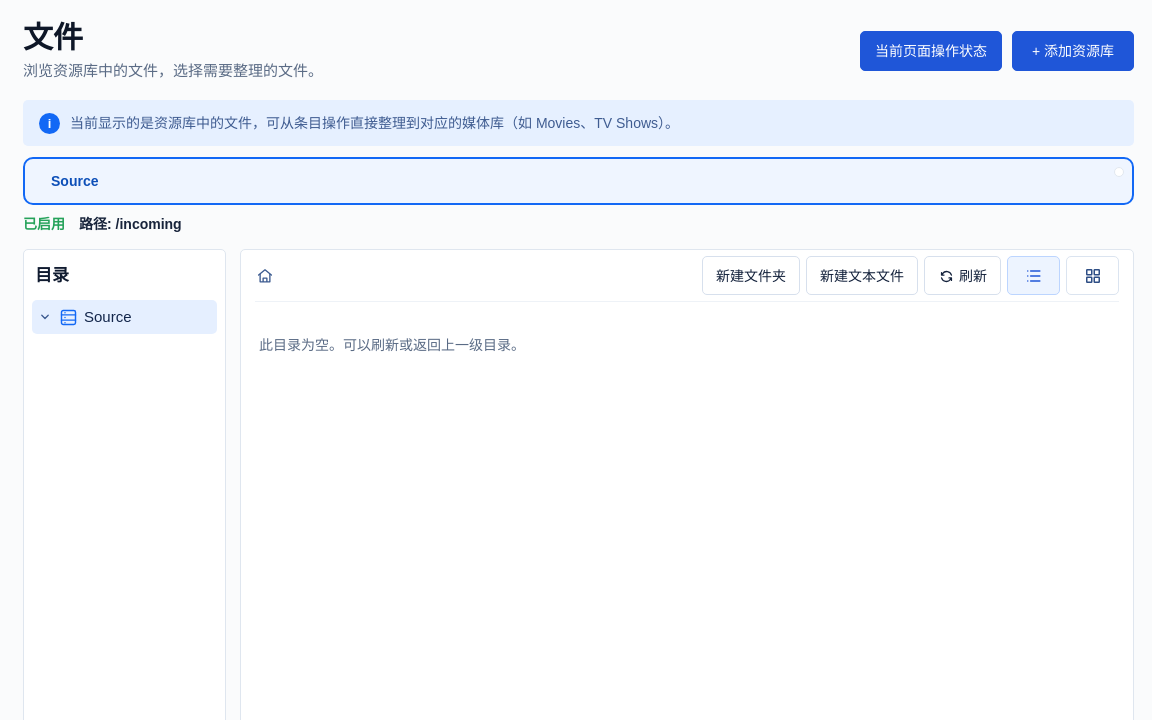
Test case: current page operation status › shows the independent per-item evidence of a mixed batch
The image size is (1152, 720).
Click the button "当前页面操作状态". click: {"x": 931, "y": 51}
box: [860,31,1002,71]
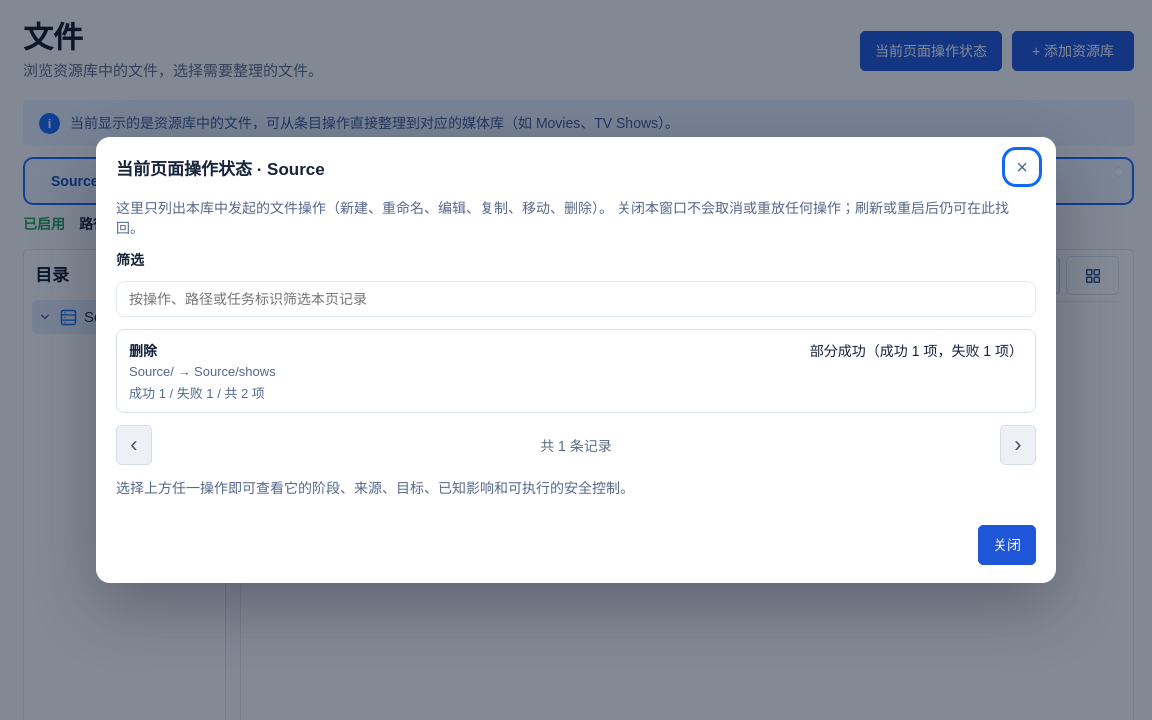
Click the button with aria-label "操作 删除 task-1". click: {"x": 916, "y": 351}
box: [116,329,1036,413]
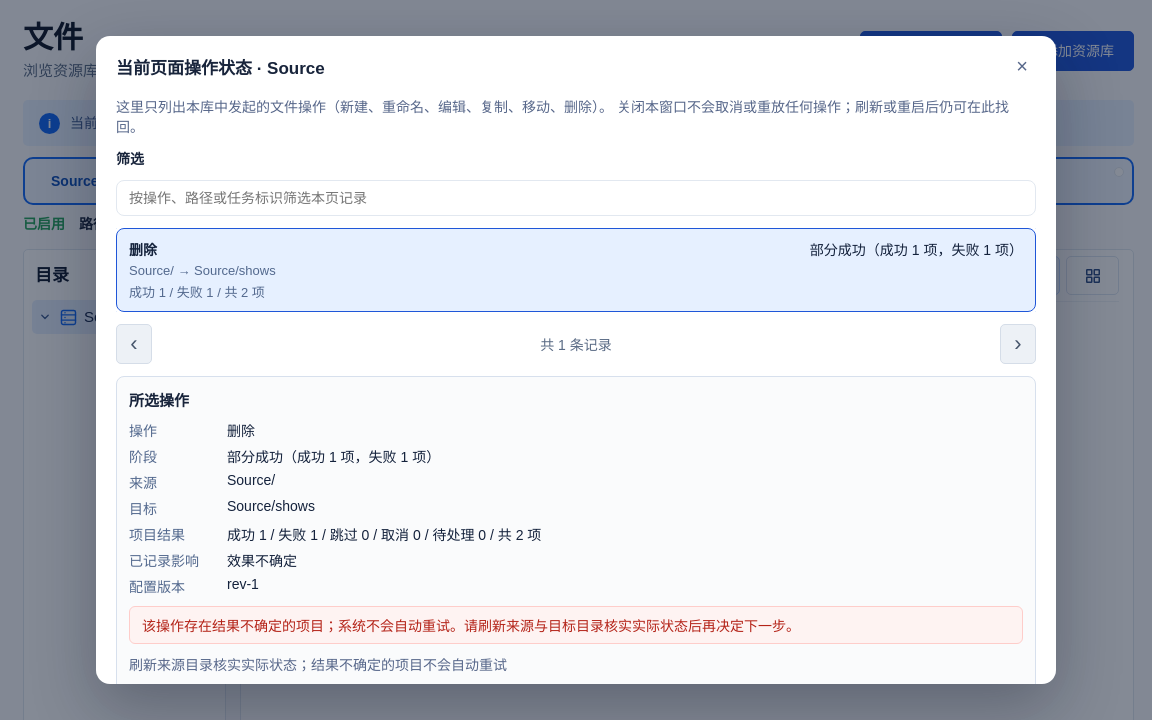
Expected: the text "效果不确定" is shown, [227,553,297,569]
